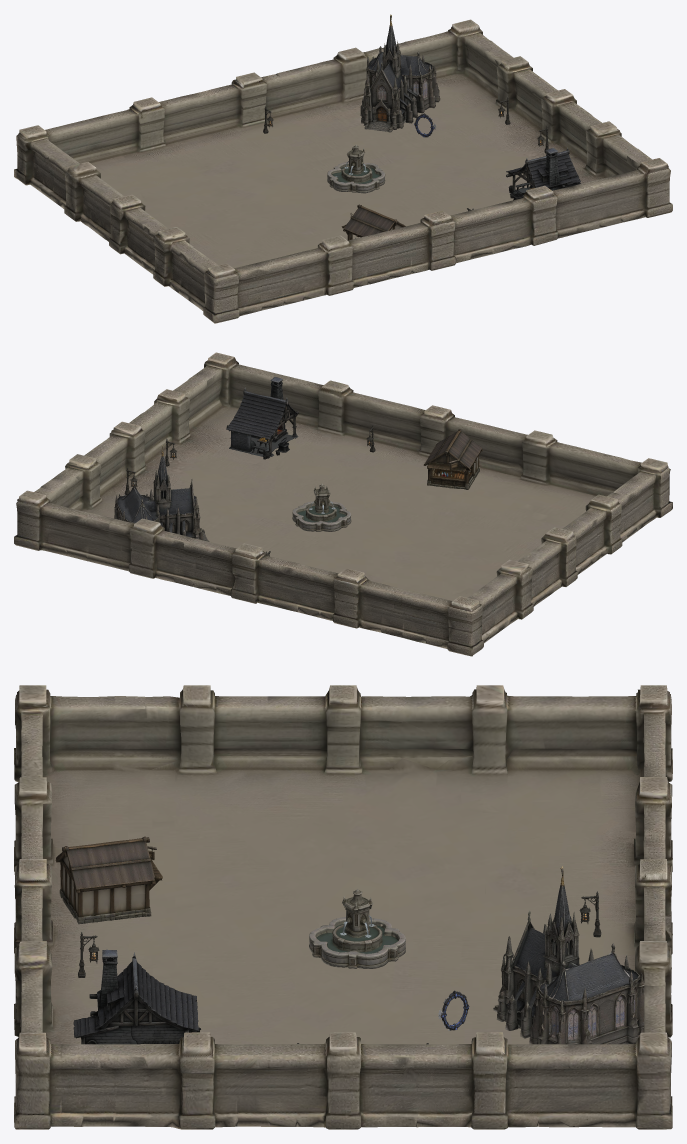
File: city.gltf
The picture shows the model from 3 angles, top to bottom: view 1: azimuth 30°, elevation 25°; view 2: azimuth 150°, elevation 25°; view 3: azimuth 270°, elevation 25°; orthographic projection. The views are drawn at different scales.
Visible parts, largest first — view 1: tripo_node_40d59b7f-447d-4442-a45a-a8d224f5f0c3, tripo_node_78ab602f-cc4a-4eba-addf-011aa19eb19f, tripo_node_87697662-4db6-4bb9-a96a-8873df3da56d, tripo_node_2abd7978-8911-4f8f-a11e-db88e2ba224b, tripo_node_33e4db8c-7ca6-4f71-9150-13383305b9c5; view 2: tripo_node_40d59b7f-447d-4442-a45a-a8d224f5f0c3, tripo_node_87697662-4db6-4bb9-a96a-8873df3da56d, tripo_node_78ab602f-cc4a-4eba-addf-011aa19eb19f, tripo_node_33e4db8c-7ca6-4f71-9150-13383305b9c5, tripo_node_2abd7978-8911-4f8f-a11e-db88e2ba224b; view 3: tripo_node_40d59b7f-447d-4442-a45a-a8d224f5f0c3, tripo_node_78ab602f-cc4a-4eba-addf-011aa19eb19f, tripo_node_87697662-4db6-4bb9-a96a-8873df3da56d, tripo_node_33e4db8c-7ca6-4f71-9150-13383305b9c5, tripo_node_2abd7978-8911-4f8f-a11e-db88e2ba224b.
Part boxes in pixels (<box>): tripo_node_40d59b7f-447d-4442-a45a-a8d224f5f0c3: <box>14,19,672,323</box>; tripo_node_78ab602f-cc4a-4eba-addf-011aa19eb19f: <box>360,14,440,132</box>; tripo_node_87697662-4db6-4bb9-a96a-8873df3da56d: <box>506,147,580,200</box>; tripo_node_2abd7978-8911-4f8f-a11e-db88e2ba224b: <box>327,145,385,193</box>; tripo_node_33e4db8c-7ca6-4f71-9150-13383305b9c5: <box>341,204,405,240</box>; tripo_node_40d59b7f-447d-4442-a45a-a8d224f5f0c3: <box>14,352,672,656</box>; tripo_node_87697662-4db6-4bb9-a96a-8873df3da56d: <box>226,377,298,459</box>; tripo_node_78ab602f-cc4a-4eba-addf-011aa19eb19f: <box>114,445,209,541</box>; tripo_node_33e4db8c-7ca6-4f71-9150-13383305b9c5: <box>423,429,482,489</box>; tripo_node_2abd7978-8911-4f8f-a11e-db88e2ba224b: <box>292,484,351,531</box>; tripo_node_40d59b7f-447d-4442-a45a-a8d224f5f0c3: <box>14,685,672,1129</box>; tripo_node_78ab602f-cc4a-4eba-addf-011aa19eb19f: <box>493,866,644,1044</box>; tripo_node_87697662-4db6-4bb9-a96a-8873df3da56d: <box>73,949,200,1044</box>; tripo_node_33e4db8c-7ca6-4f71-9150-13383305b9c5: <box>55,836,162,924</box>; tripo_node_2abd7978-8911-4f8f-a11e-db88e2ba224b: <box>309,889,405,968</box>.
Bounding box in the file's own units: 49.15 × 10.7 × 37.11.
Materials: 10 (10 with a texture image).
